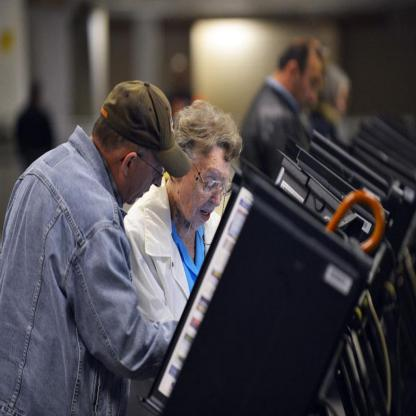face: (181, 146, 237, 226), (128, 145, 165, 200), (300, 52, 322, 112)
